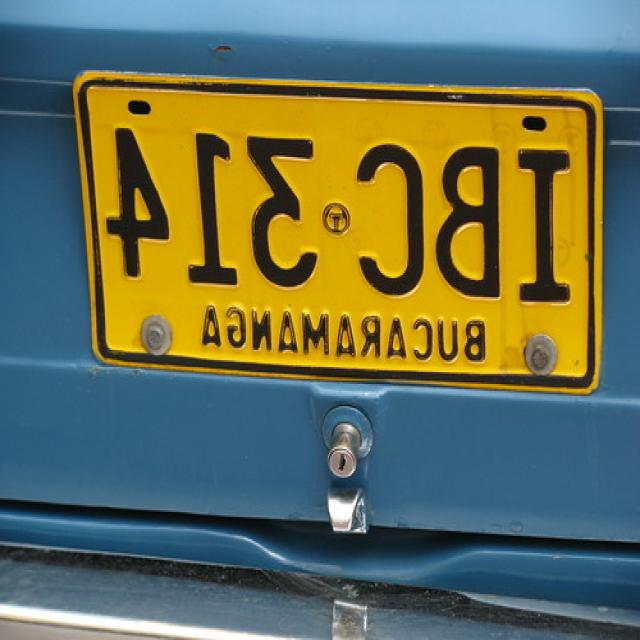placas: (94, 94, 588, 309)
